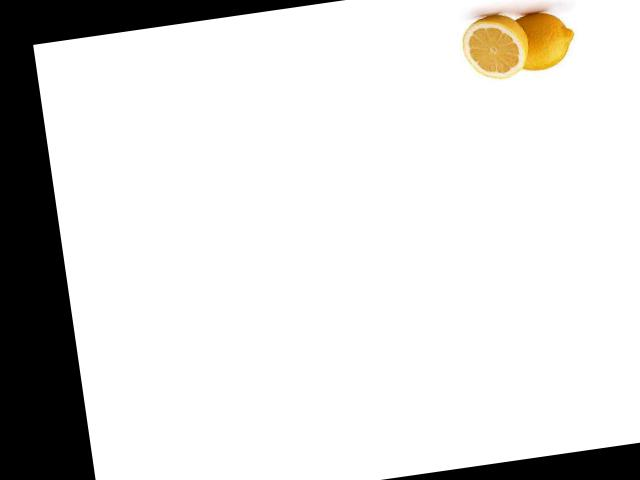lemon: (509, 1, 579, 77)
